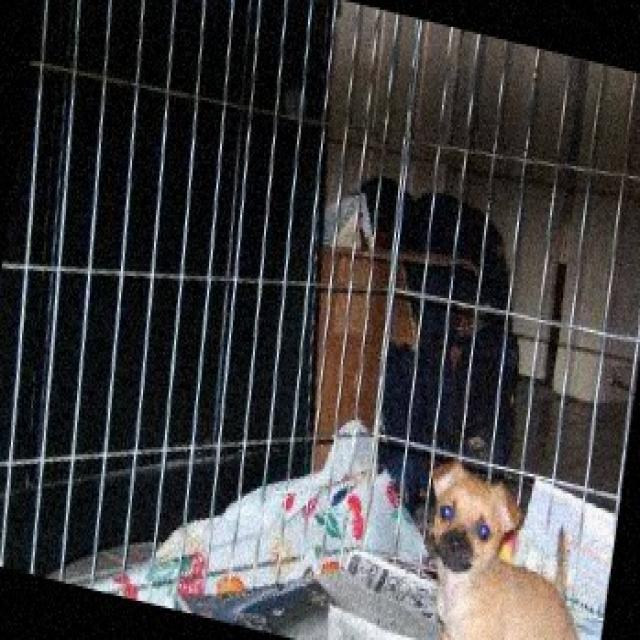sad: (418, 442, 618, 640)
